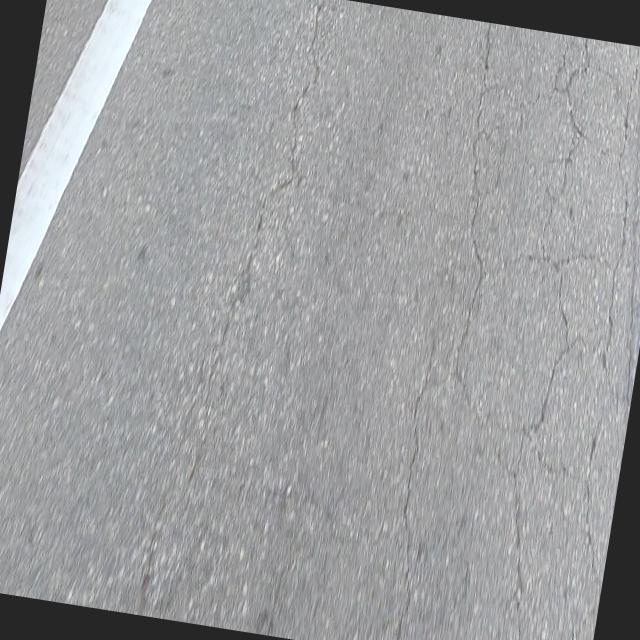Retak-Buaya: (390, 22, 640, 640)
Retak-Memanjang: (182, 0, 324, 503)
